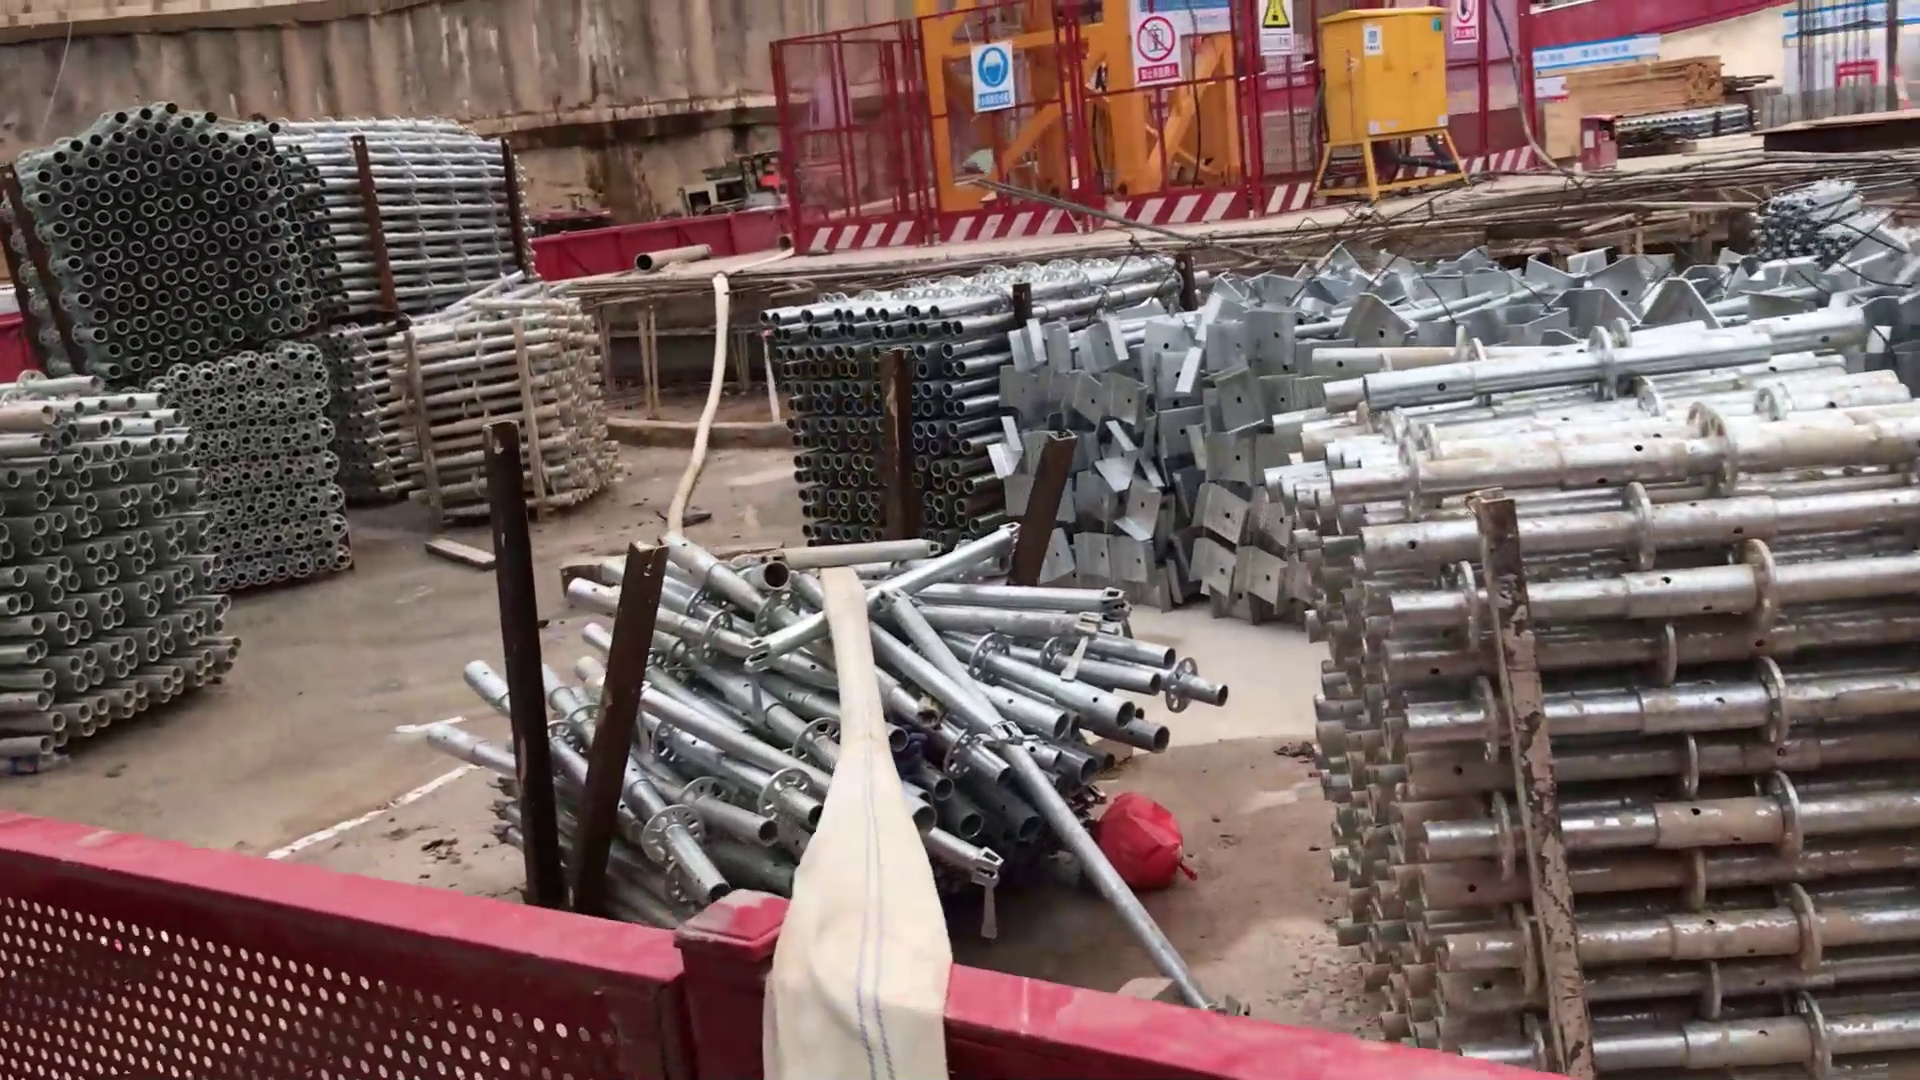ebox: (1302, 3, 1476, 207)
fence: (1, 855, 688, 1067), (762, 30, 1282, 228)
scaffold: (1266, 367, 1913, 1080), (473, 531, 1217, 930), (758, 262, 1295, 620), (1, 338, 348, 800), (17, 98, 538, 348), (369, 278, 628, 524)
slogan: (1509, 32, 1665, 80), (1135, 12, 1203, 107), (1249, 1, 1311, 80), (969, 37, 1025, 116), (1441, 4, 1487, 51)
wood: (1555, 53, 1749, 123)
